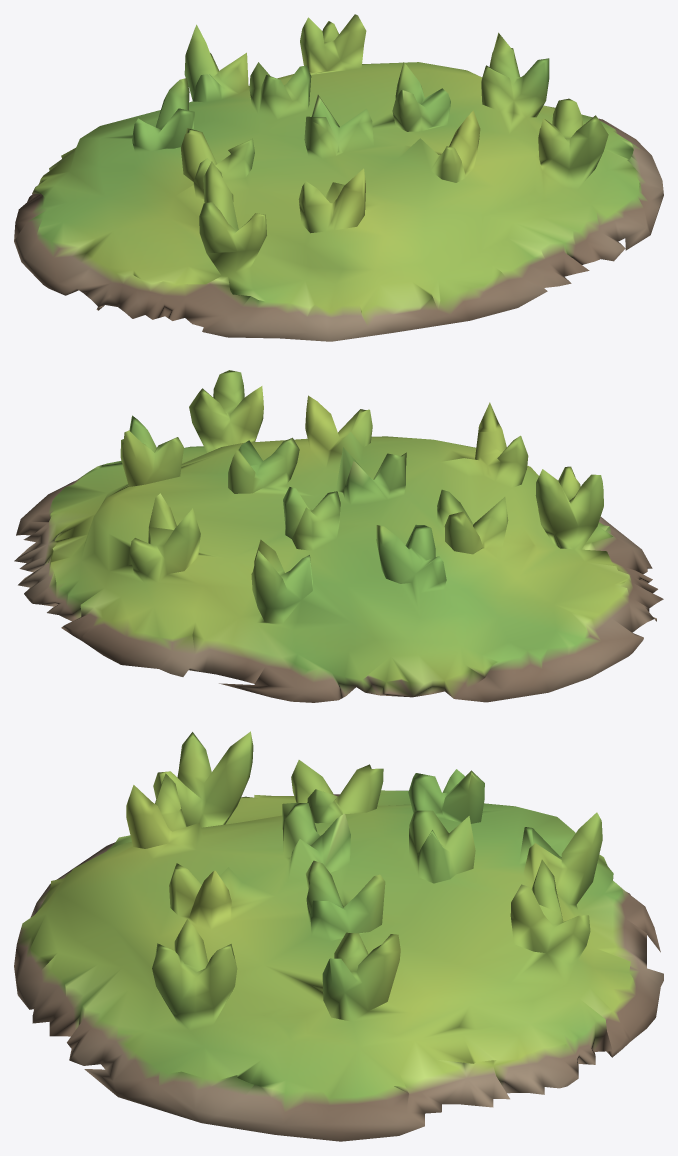
File: grass-turf1.glb
3 views of the same model, one above another, from view 1: azimuth 30°, elevation 25°; view 2: azimuth 150°, elevation 25°; view 3: azimuth 270°, elevation 25° (orthographic). The views are drawn at different scales.
Parts seen in each view (by area): view 1: body; view 2: body; view 3: body.
Part boxes in pixels (x1,y1,x2,y2): body: (14,14,663,341); body: (14,370,663,702); body: (14,731,663,1141).
Bounding box in the file's own units: 1.14 × 0.2474 × 0.9299.
